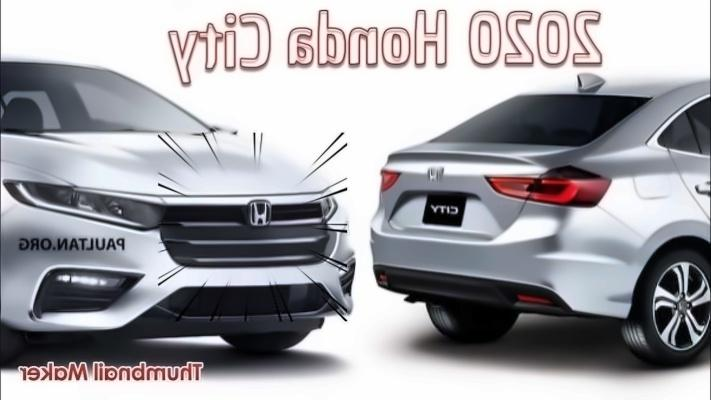Car boot: (381, 137, 579, 250)
Car hood: (0, 129, 361, 207)
Fender - -R-R-: (594, 137, 711, 252)
Front bumper: (0, 203, 359, 335)
Headlight - -L-: (303, 191, 349, 227)
Headlight - -R-: (0, 173, 173, 237)
Rear bumper: (366, 201, 659, 329)
Rear light - -L-: (370, 162, 404, 198)
Rear light - -R-: (480, 159, 618, 210)
